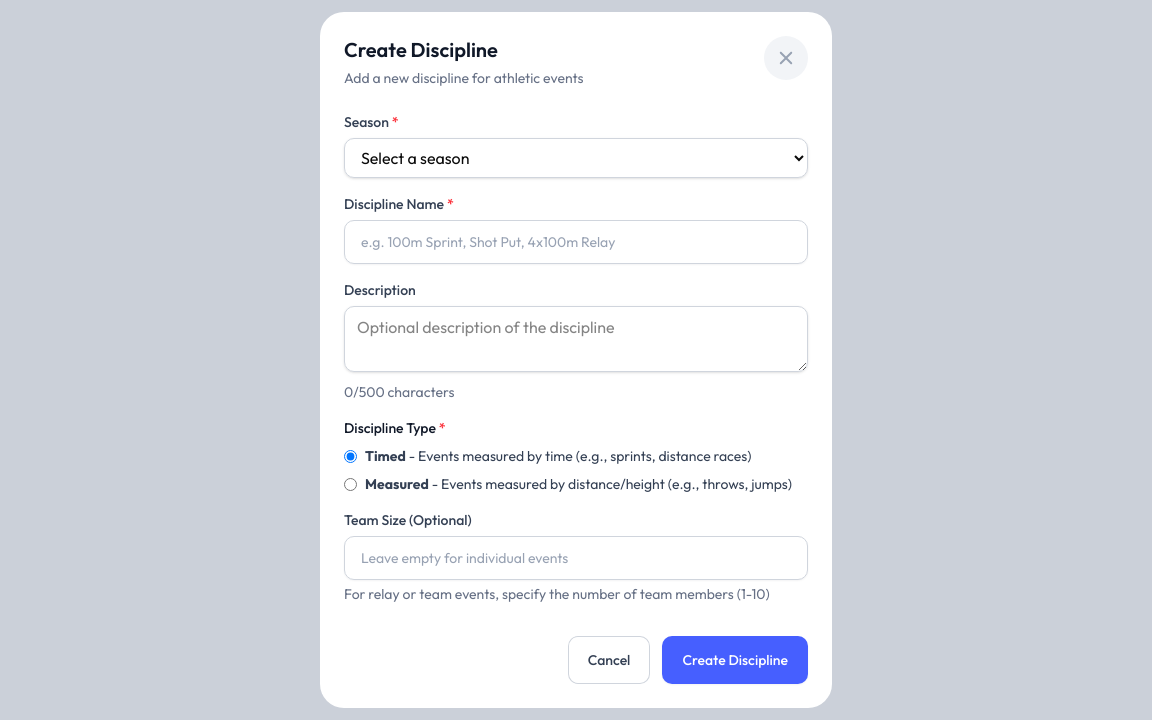
Test: DisciplineModal › Create Mode › should handle network errors
Step 1. Select "Track & Field" in the dropdown labelled "Season *" → (576, 158), box [344,138,808,178]
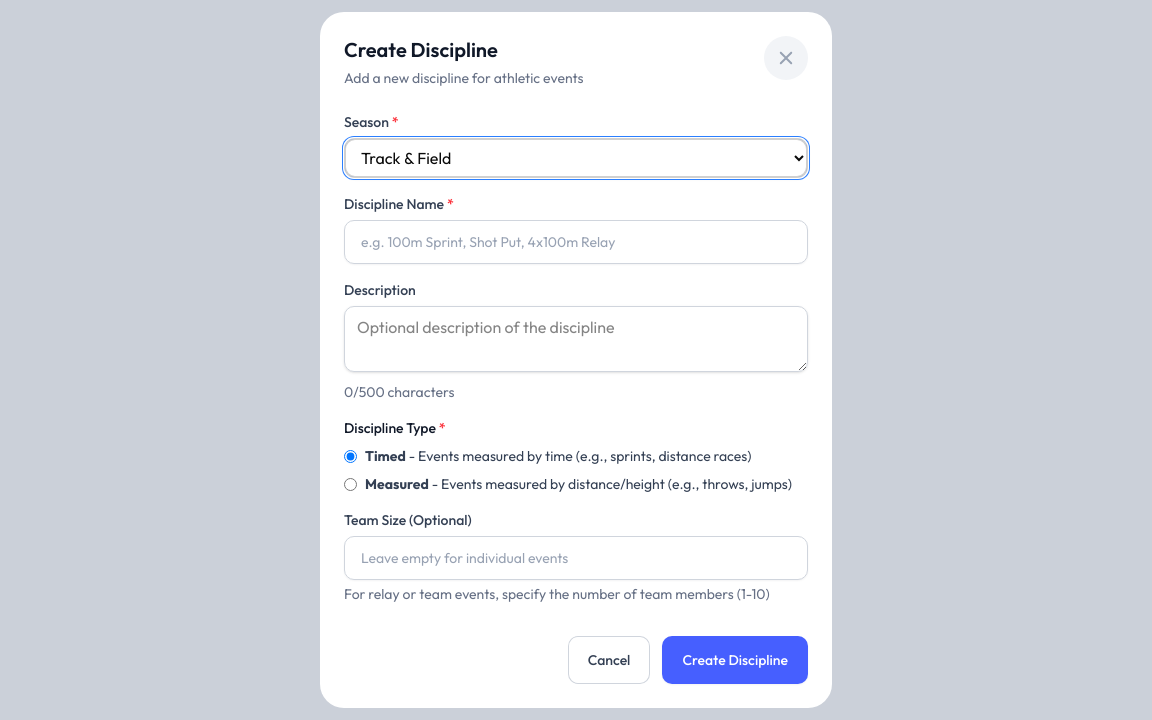
Step 2. Type "Valid Discipline" into the field labelled "Discipline Name *" → (576, 242), box [344,220,808,264]
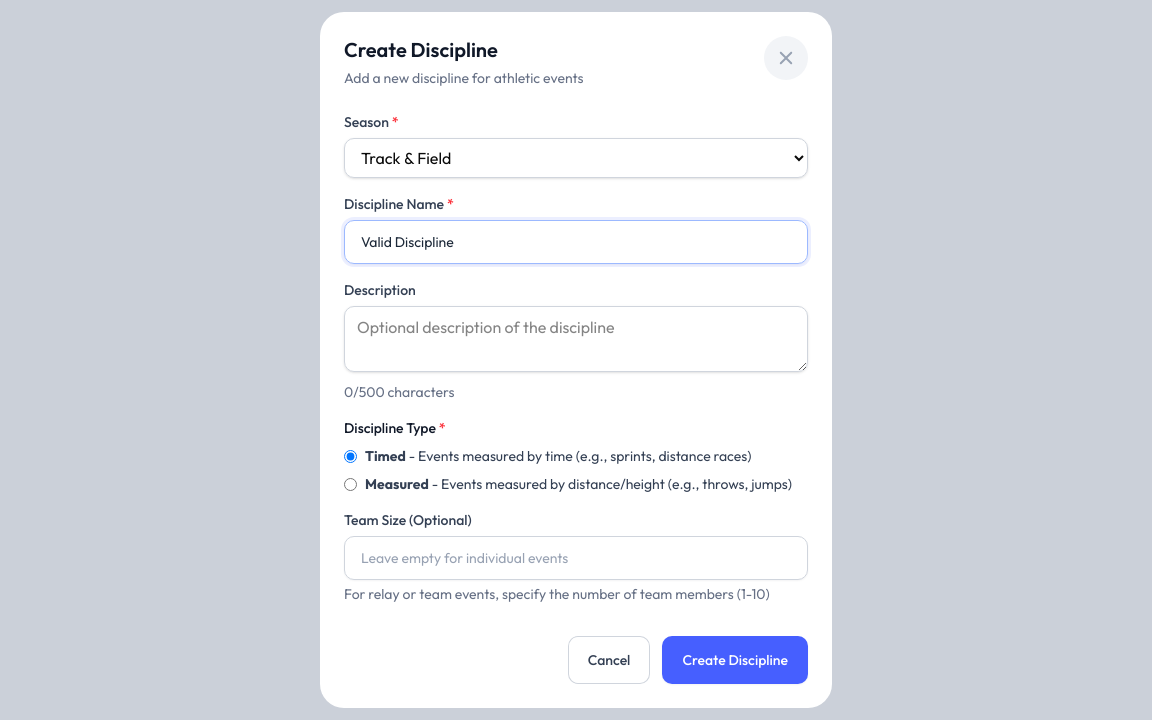
Step 3. Click the button "Create Discipline" → (735, 660), box [662,636,808,684]
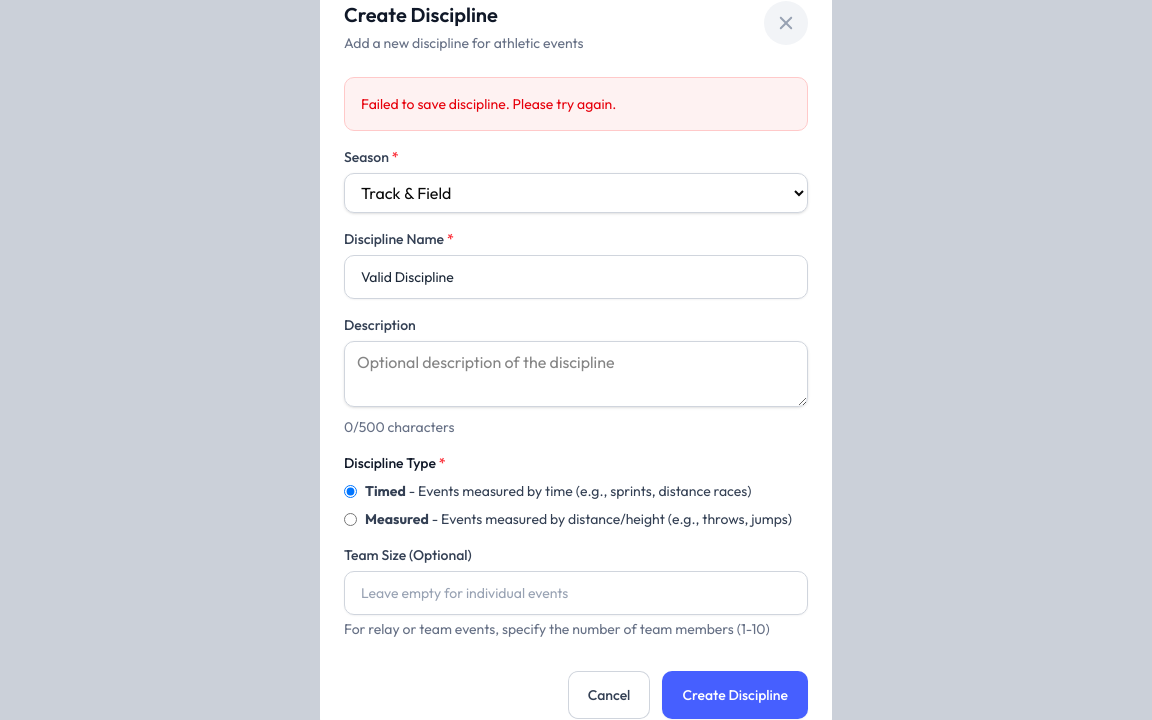
Result: the text "Failed to save discipline. Please try again." is shown at [361,95,616,113]
